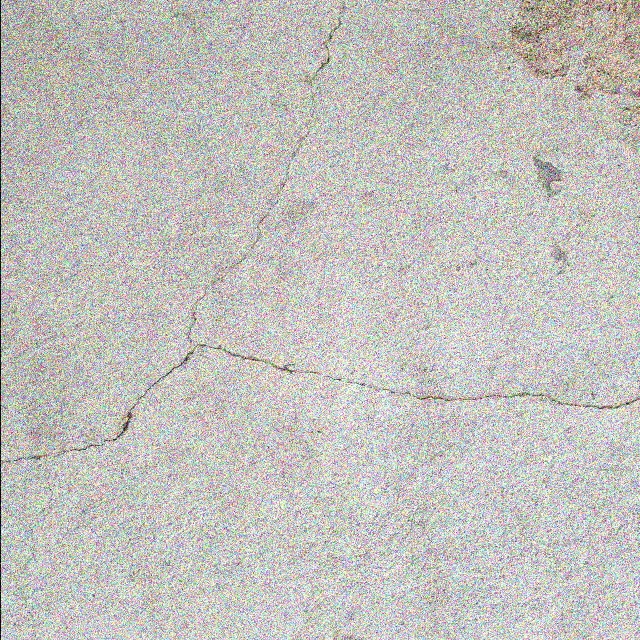SurfaceCrack: (1, 0, 603, 526)
